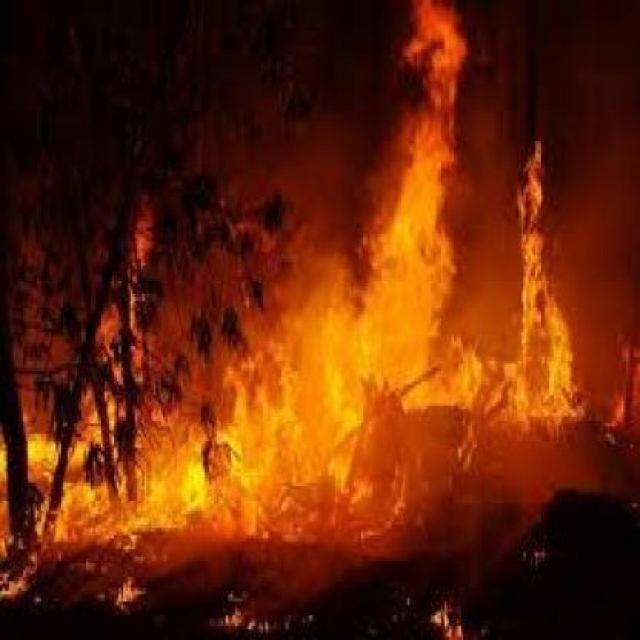Fire: (182, 19, 564, 558), (0, 321, 640, 592)
